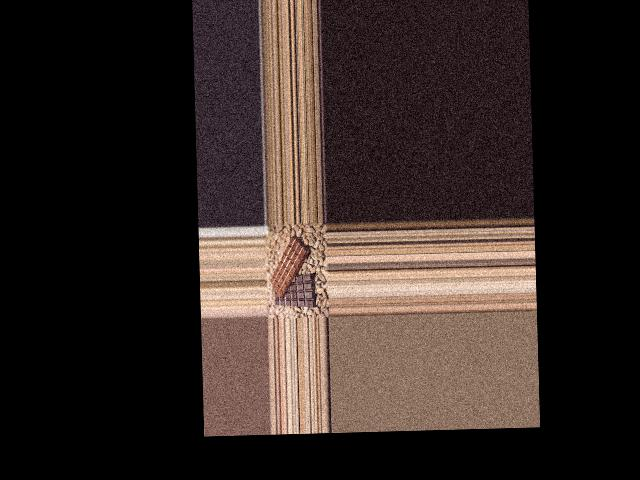chocolate: (271, 273, 318, 312)
